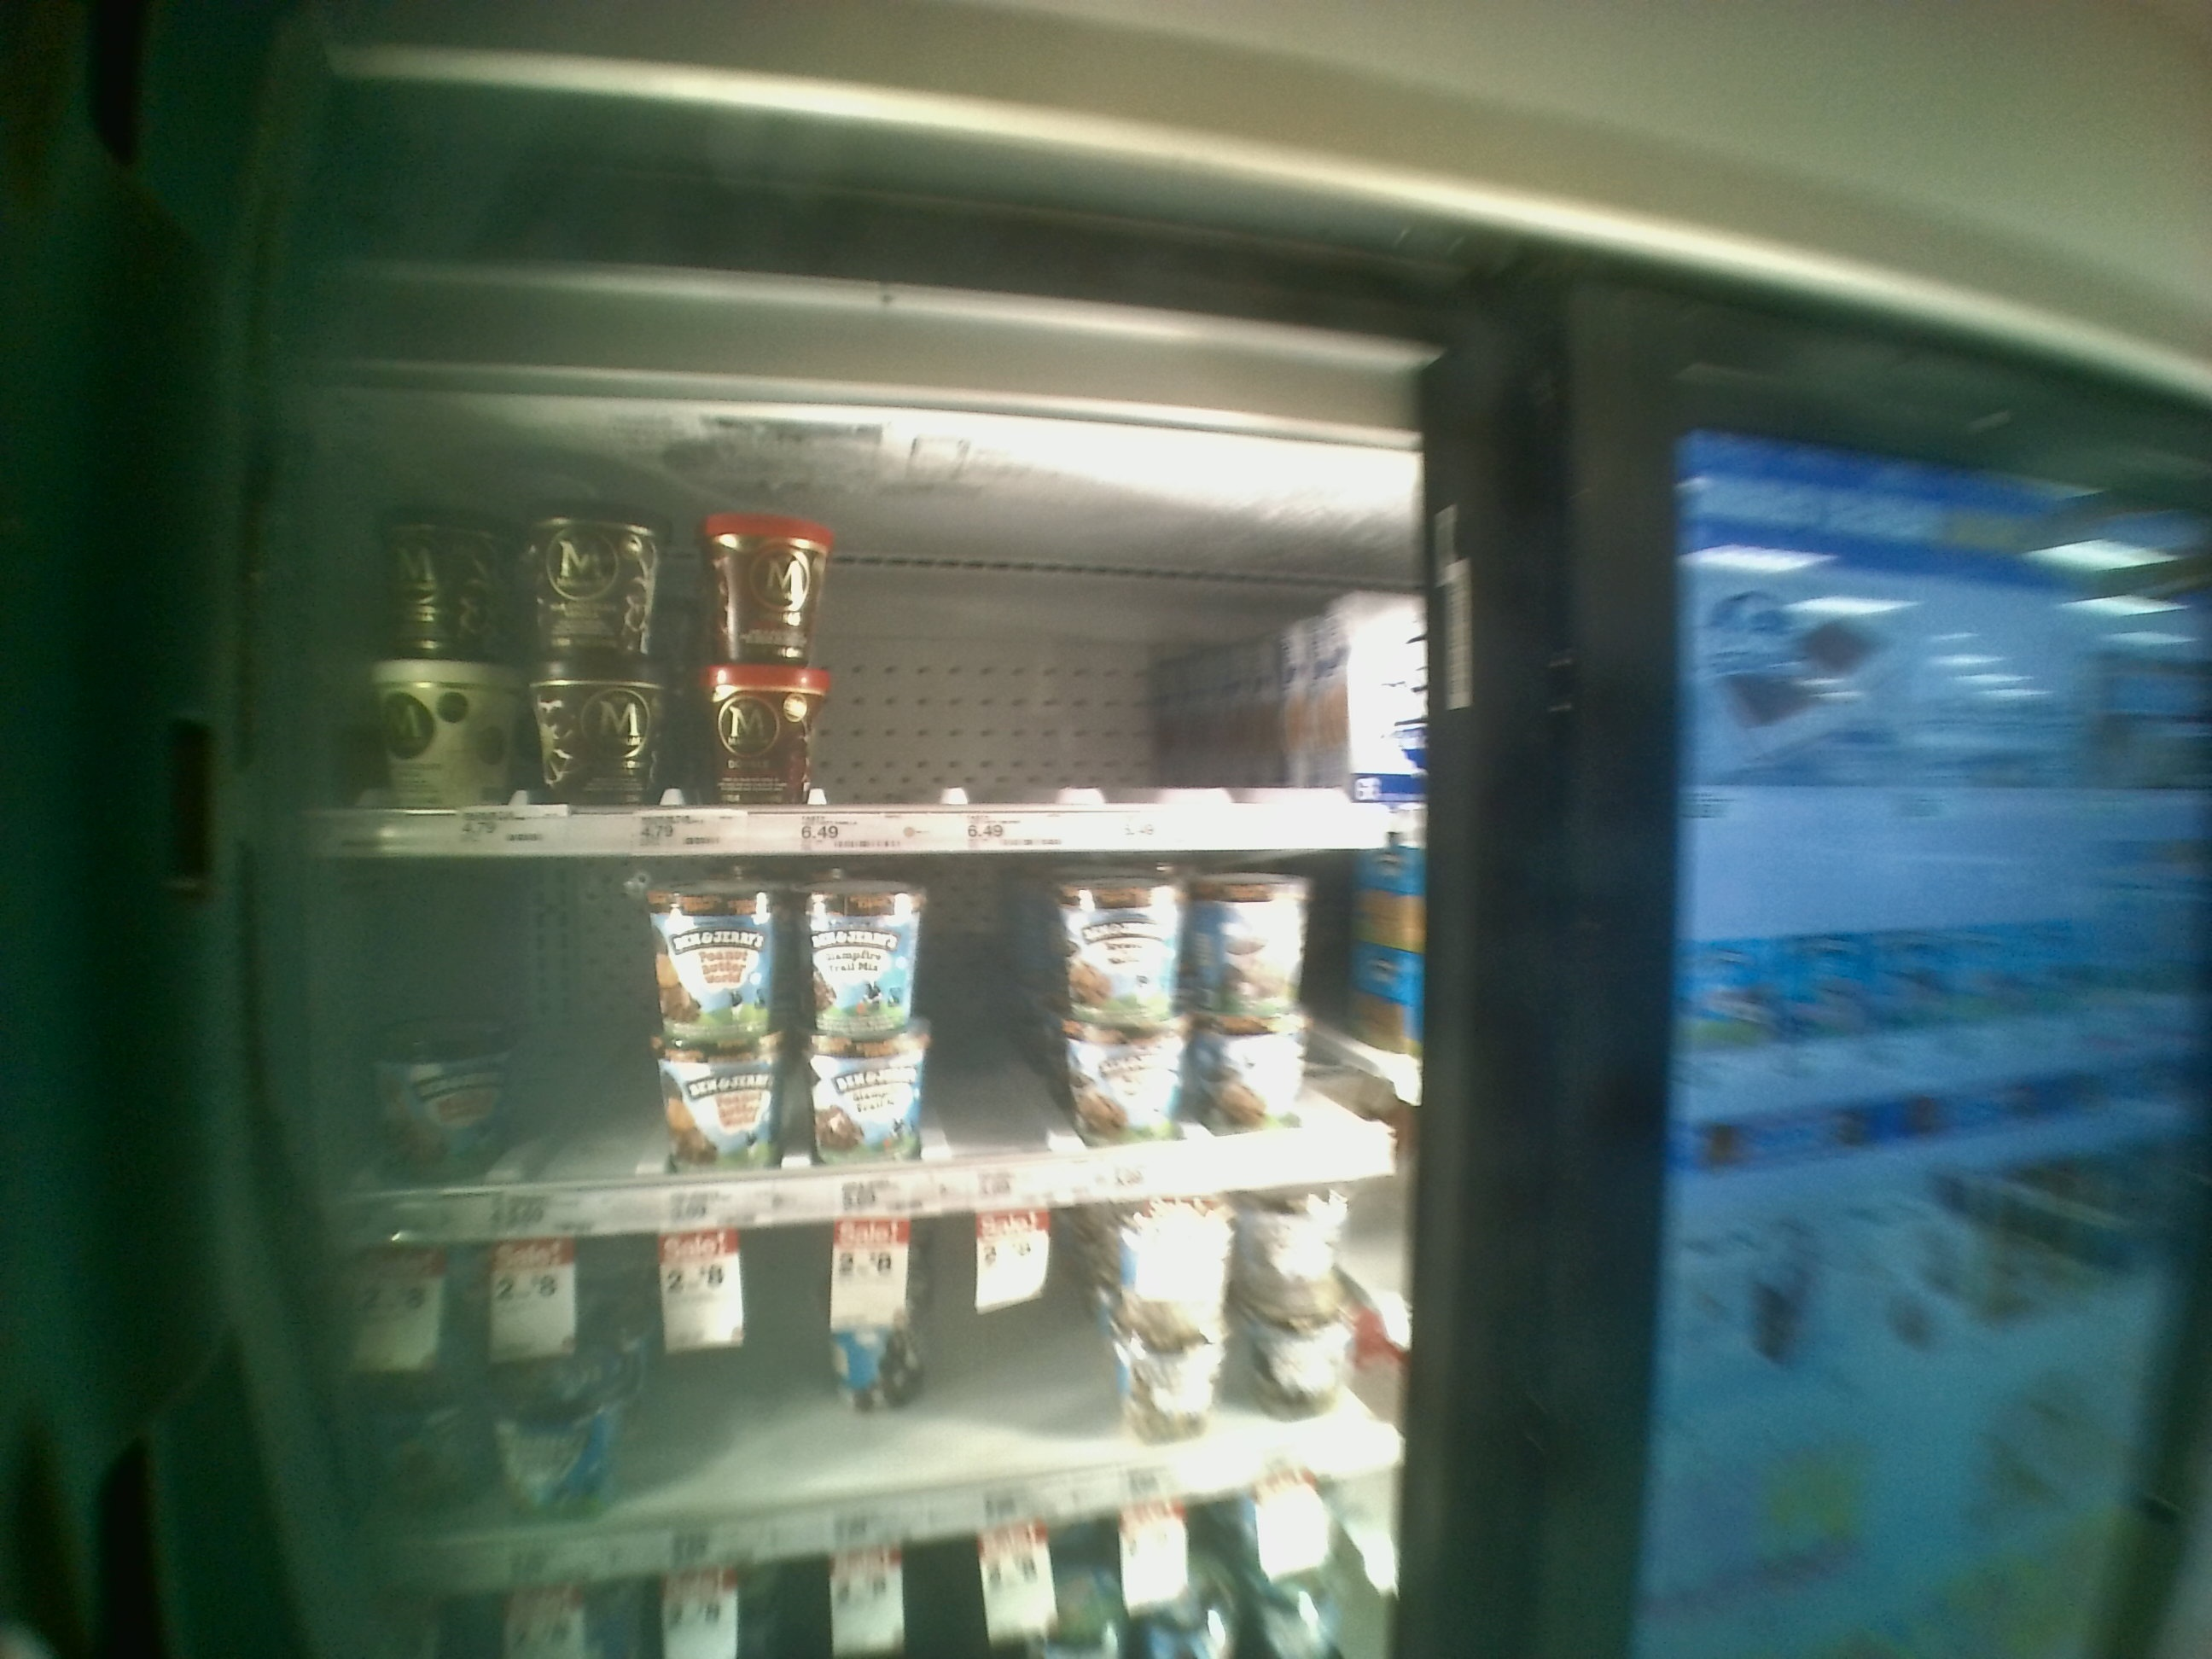shelf: (301, 425, 1446, 854), (291, 854, 1439, 1253)
